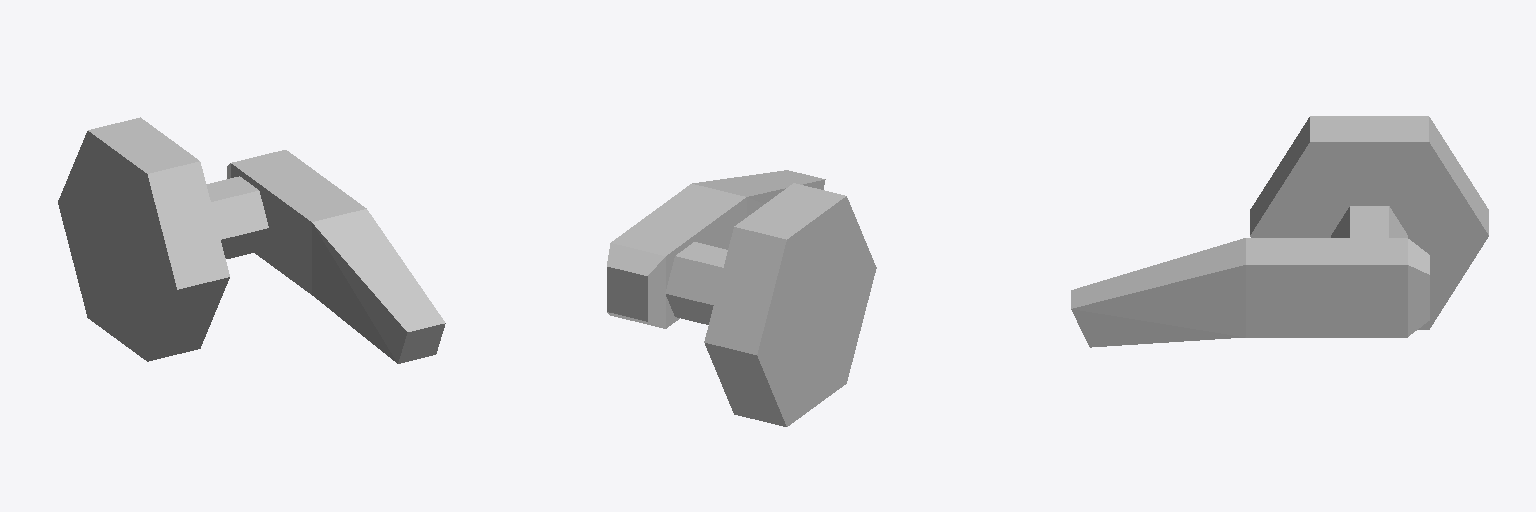
File: door_handle.obj
3 views of the same model, side by side, from view 1: azimuth 30°, elevation 25°; view 2: azimuth 150°, elevation 25°; view 3: azimuth 270°, elevation 25° (orthographic).
Visible parts, largest first — view 1: Door_Handle; view 2: Door_Handle; view 3: Door_Handle.
Part boxes in pixels (x1,y1,x2,y2): Door_Handle: (58, 117, 445, 363); Door_Handle: (607, 170, 876, 426); Door_Handle: (1071, 116, 1488, 347).
Bounding box in the file's own units: 0.1614 × 0.1545 × 0.3121.